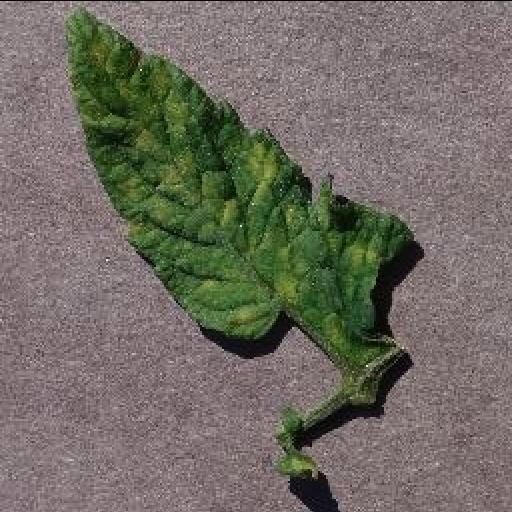disease_tomato: (61, 14, 415, 340)
